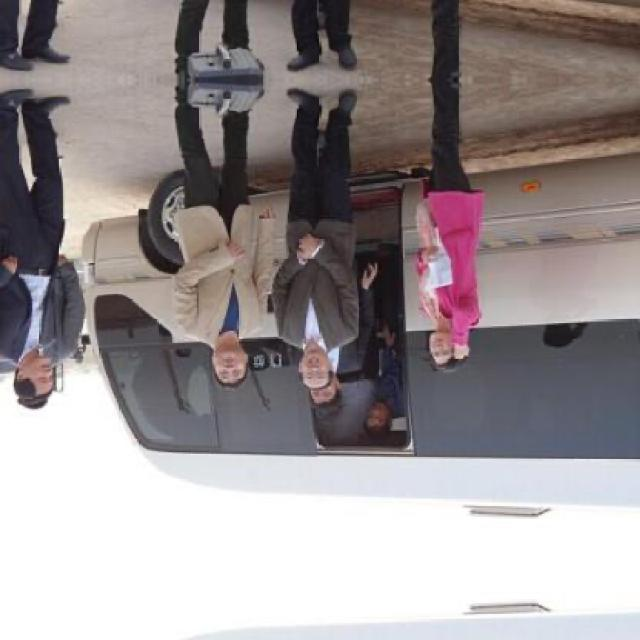sin casco: (183, 306, 270, 401), (3, 328, 66, 420), (420, 323, 497, 378), (352, 389, 424, 436), (296, 331, 341, 382), (312, 374, 343, 404)
